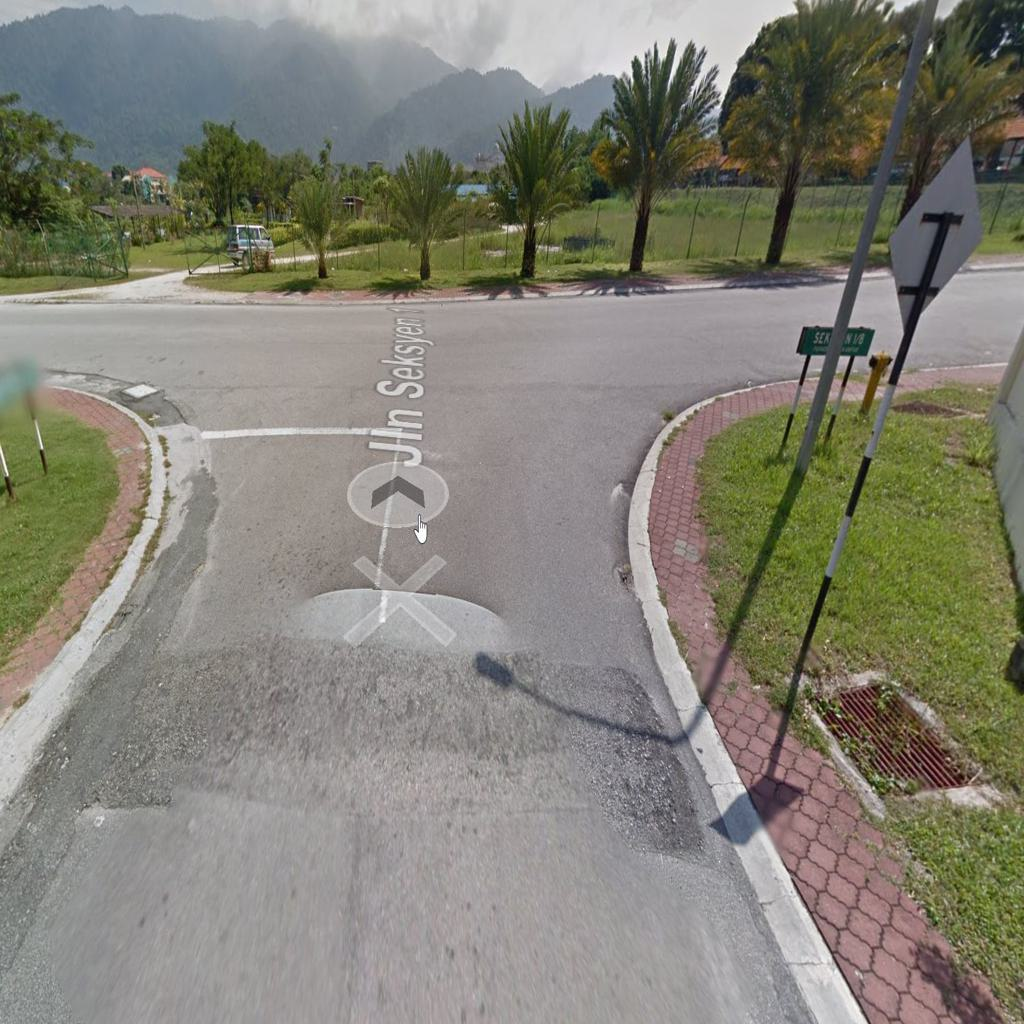Junction: (566, 263, 1002, 501), (5, 286, 239, 501)
